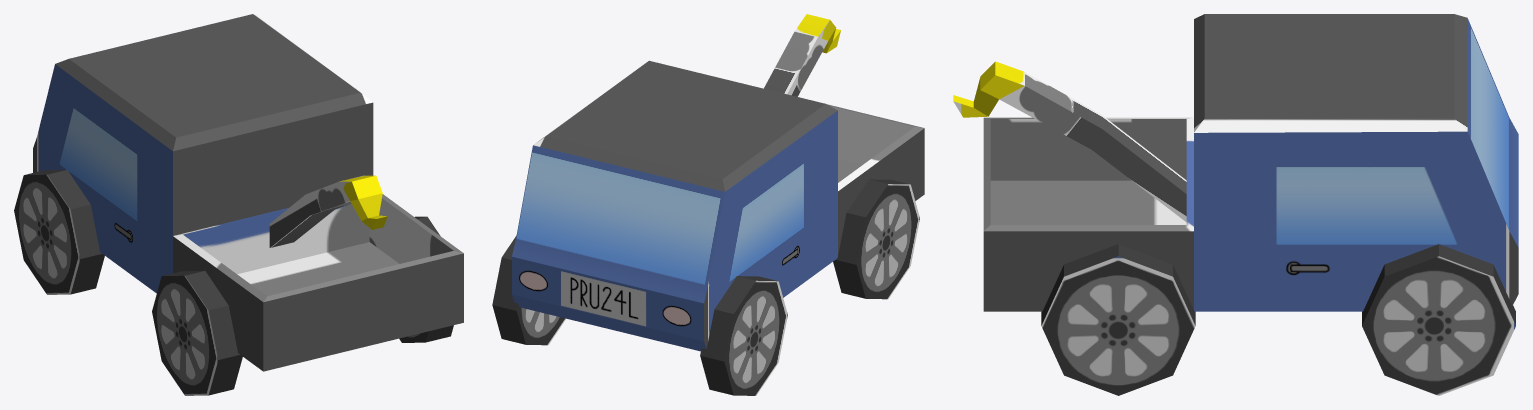
Rendered from TowTruck.fbx.
The picture shows the model from 3 angles, left to right: view 1: azimuth 30°, elevation 25°; view 2: azimuth 150°, elevation 25°; view 3: azimuth 270°, elevation 25°; orthographic projection. The views are drawn at different scales.
Parts seen in each view (by area): view 1: pCylinder6; view 2: pCylinder6; view 3: pCylinder6.
Part boxes in pixels (x1=…): pCylinder6: x1=14, y1=14, x2=463, y2=395; pCylinder6: x1=492, y1=14, x2=924, y2=395; pCylinder6: x1=953, y1=14, x2=1518, y2=395.
Size of the model in its own units: 3.48 by 3.09 by 6.06.
